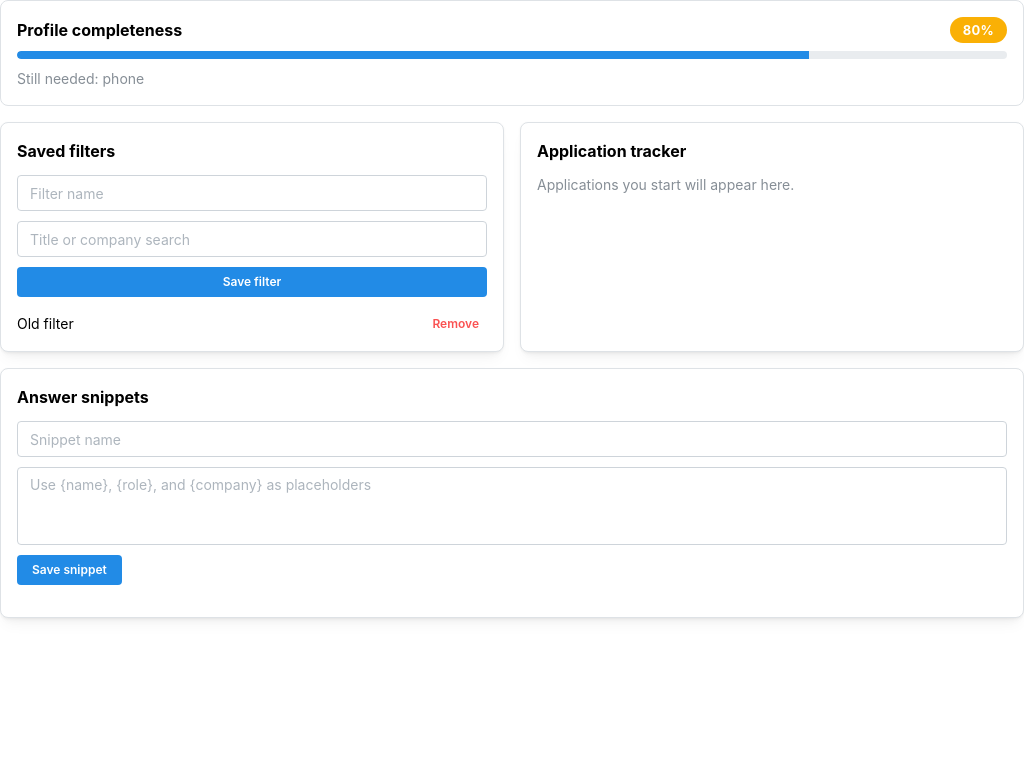
Scenario: EnhancementsPanel › removes a saved filter
Expected: the text "Old filter" is shown, [17, 314, 74, 334]
Click the button "Remove" at (456, 324), box [424, 313, 487, 335]
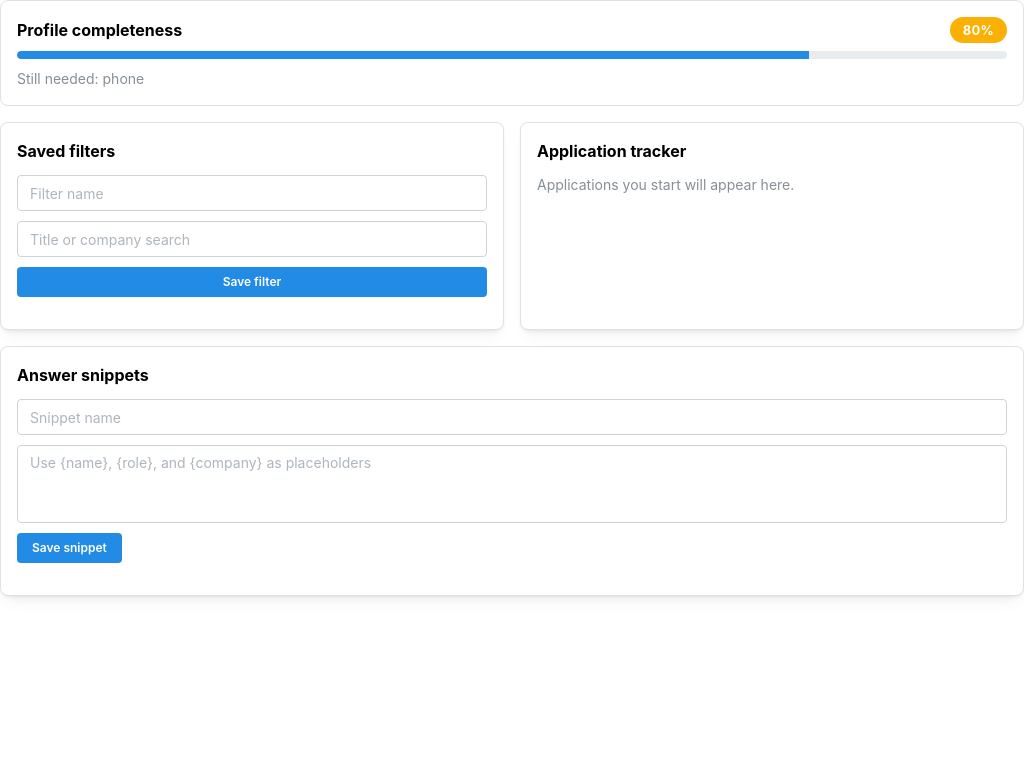
Expected: the text "Old filter" is gone
